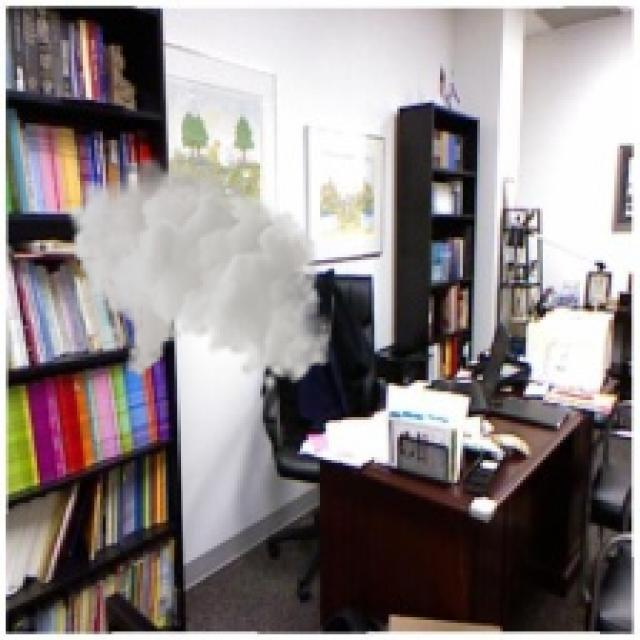smoke: (66, 146, 331, 391)
